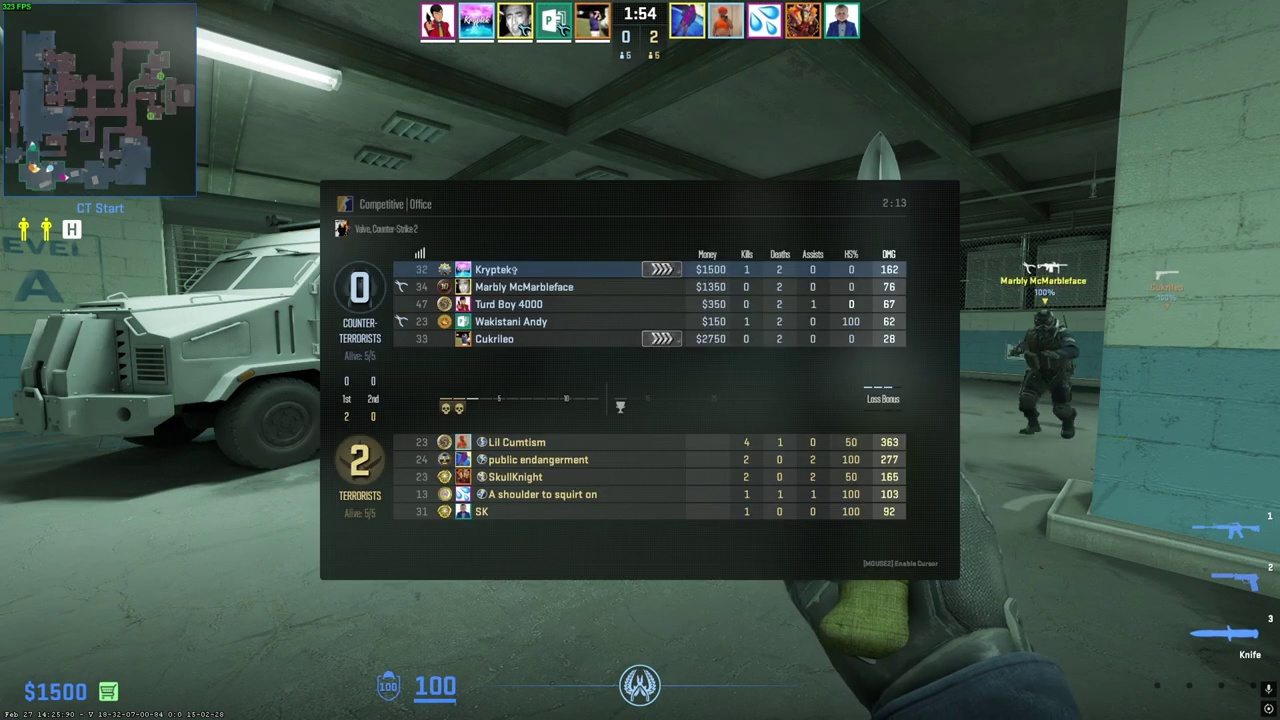CT: (1015, 309, 1077, 439)
